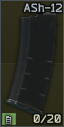ASh-12 12.7x55 20-round magazine: (0, 0, 64, 127)
